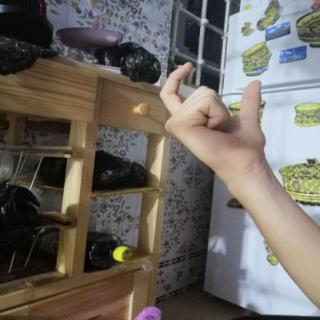NOON: (147, 51, 276, 173)
